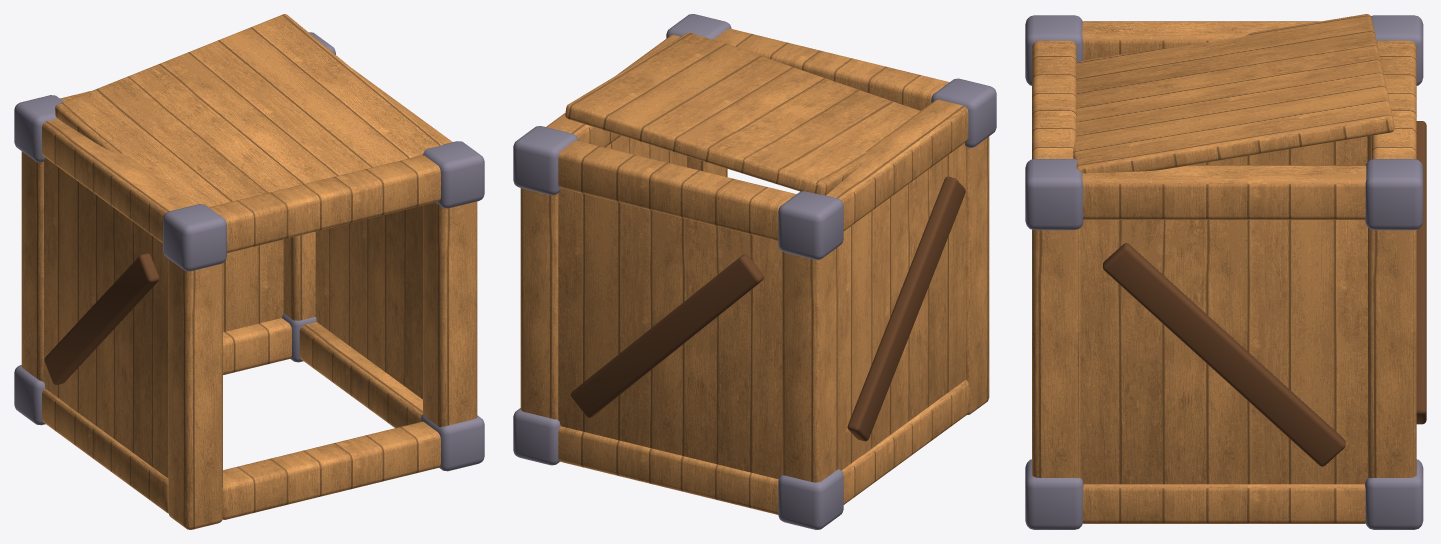
The model's file is crate_wood_damaged.glb.
3 views of the same model, side by side, from view 1: azimuth 30°, elevation 25°; view 2: azimuth 150°, elevation 25°; view 3: azimuth 270°, elevation 25° (orthographic). The views are drawn at different scales.
Parts seen in each view (by area): view 1: crate_wood_damaged; view 2: crate_wood_damaged; view 3: crate_wood_damaged.
Part boxes in pixels (x1,y1,x2,y2): crate_wood_damaged: (14,14,484,529); crate_wood_damaged: (513,14,996,529); crate_wood_damaged: (1025,14,1426,529).
Bounding box in the file's own units: 0.905 × 0.9697 × 0.8975.
Materials: 3 (1 with a texture image).
